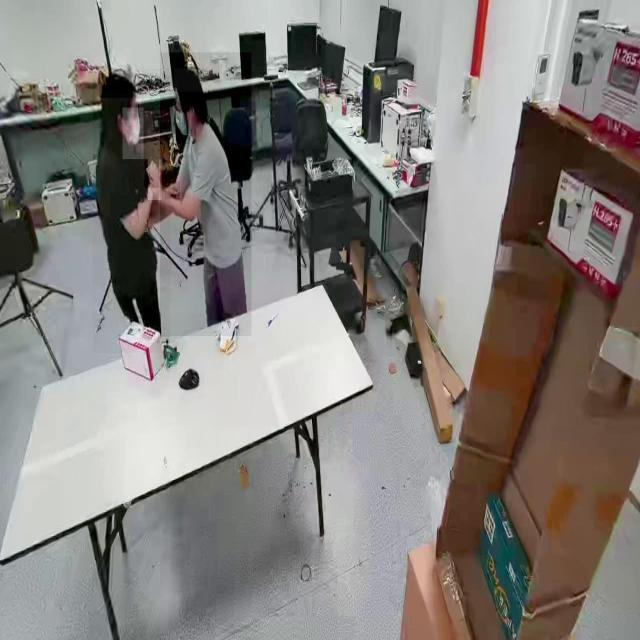face_mask: (122, 108, 144, 159), (174, 90, 190, 144)
hand_noglove: (148, 159, 162, 201), (144, 159, 160, 189), (165, 181, 181, 200)
head_nohelmet: (100, 73, 136, 99), (174, 68, 202, 92)
person: (160, 52, 252, 337), (93, 68, 171, 354)
